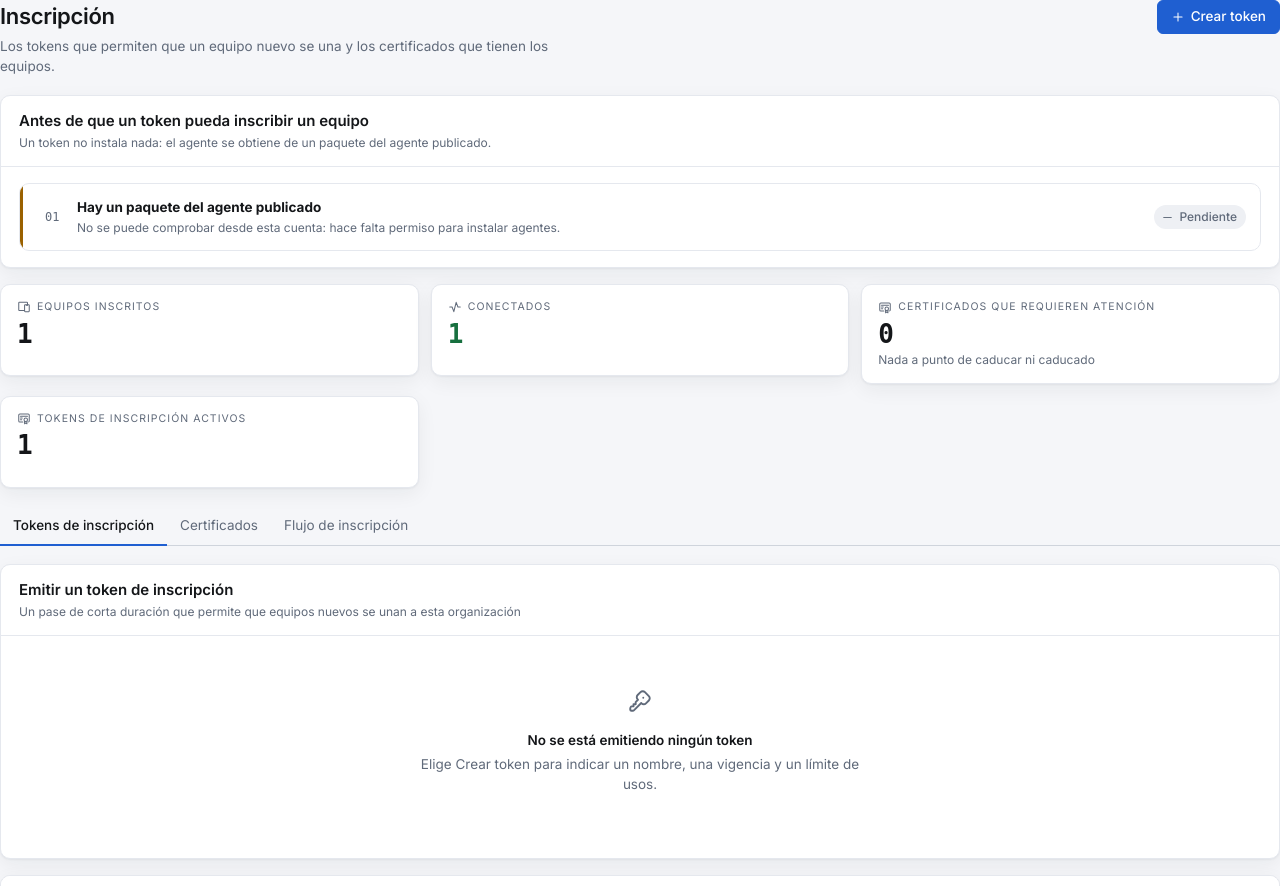
Test: the enrollment page in Spanish › words the one-time reveal, the copy states and the dismiss confirmation
Click the button "Crear token": click(1218, 17) [1157, 0, 1279, 34]
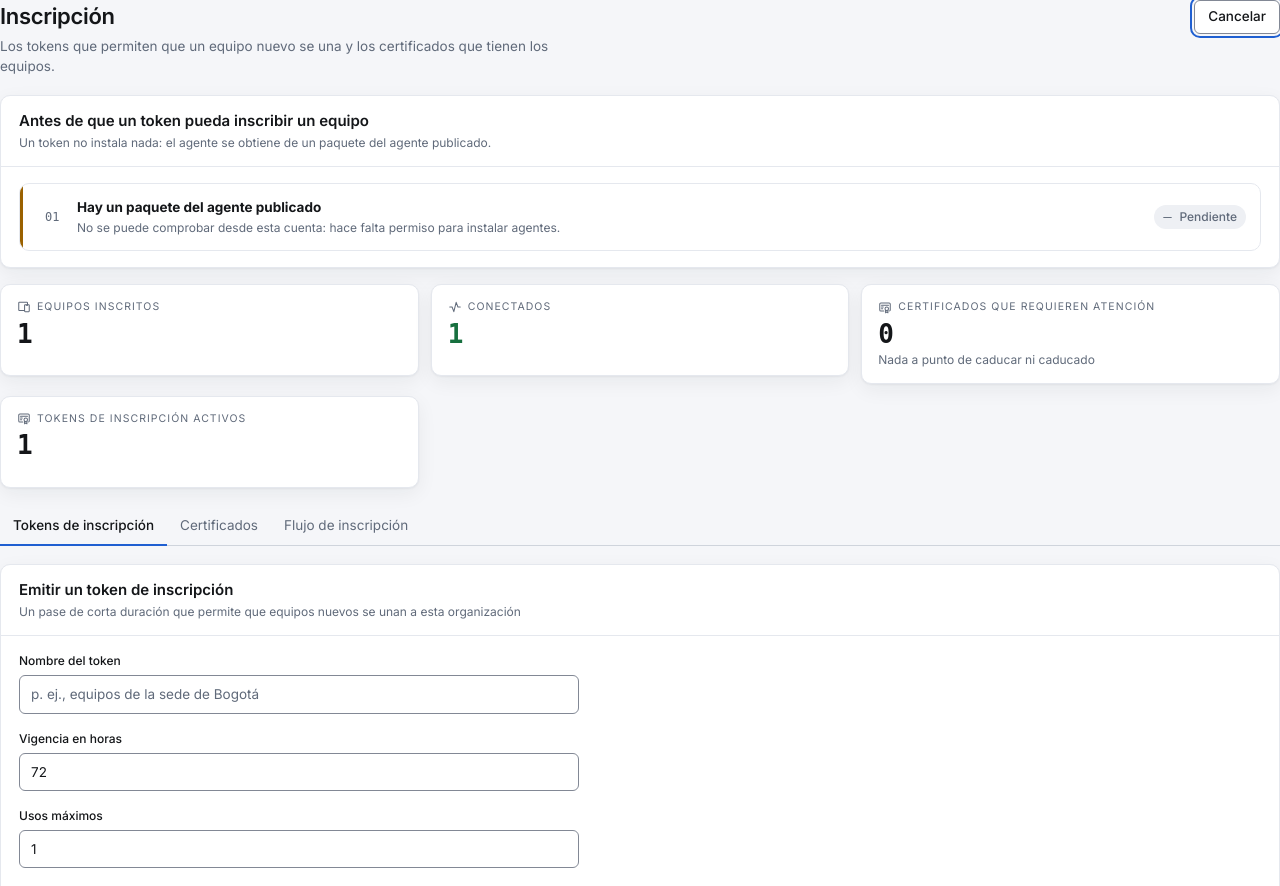
In the field labelled "Nombre del token": (299, 694) [19, 675, 579, 714], type "Lote"
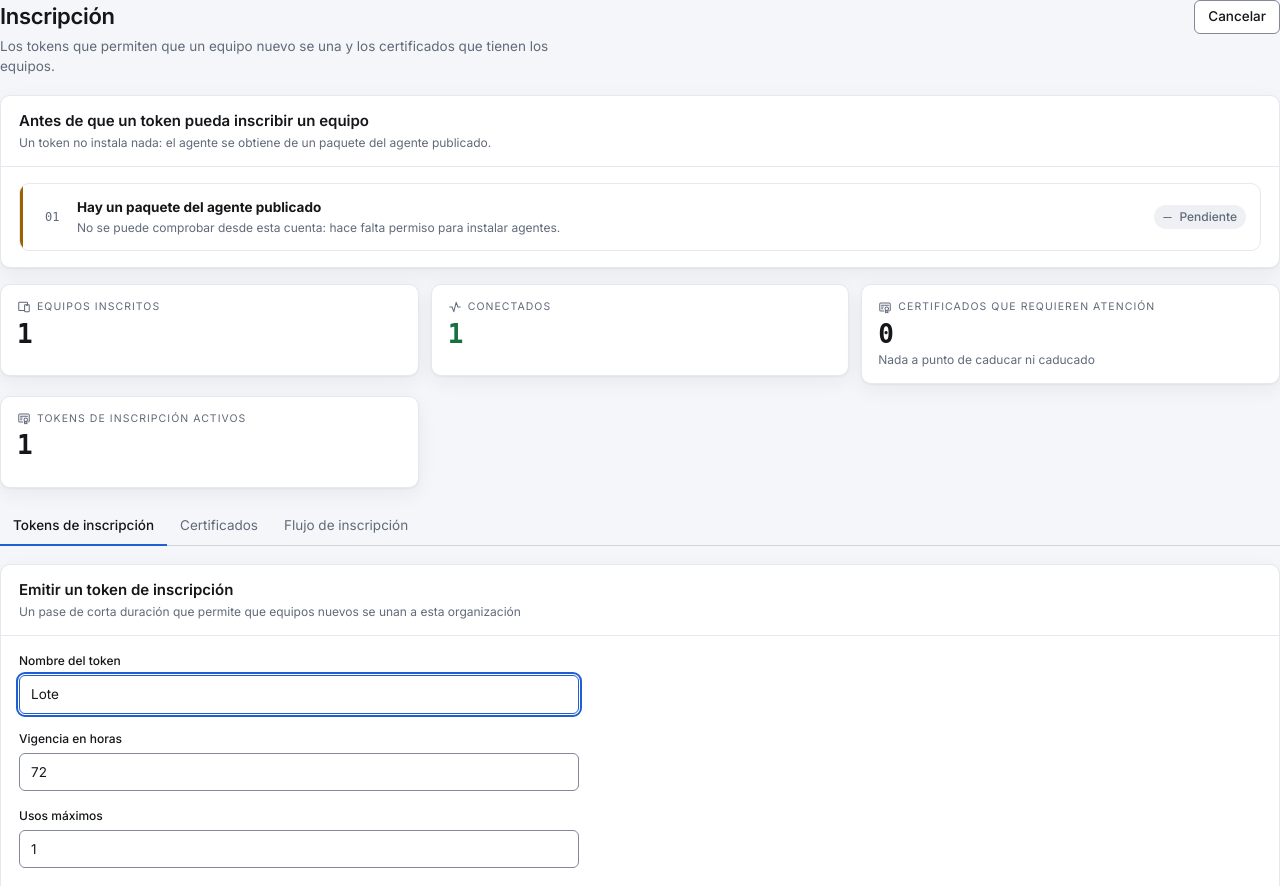
Replace the text in the number field labelled "Usos máximos" with "3": (299, 849) [19, 830, 579, 868]
(page scrolled)
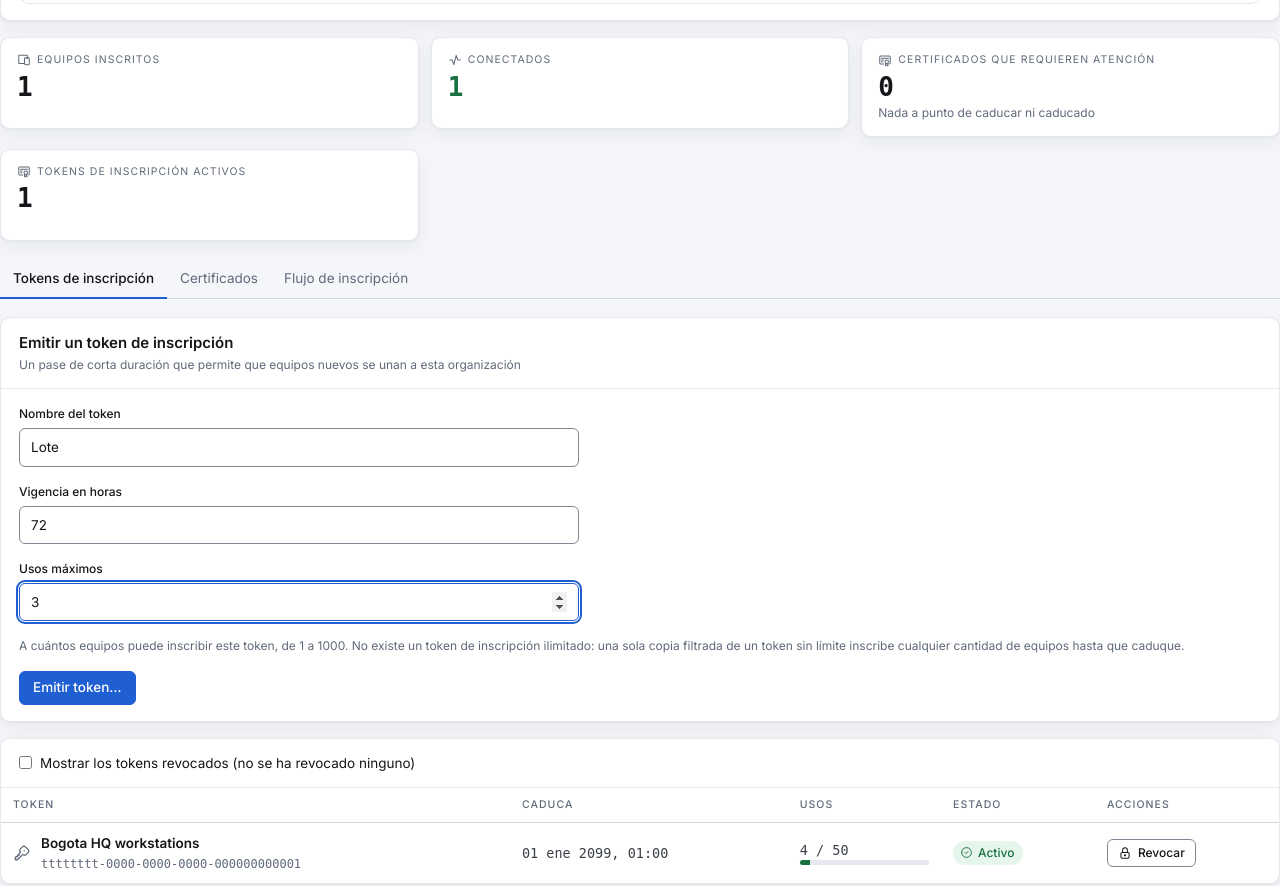
Click the button "Emitir token…": click(77, 688) [19, 671, 136, 705]
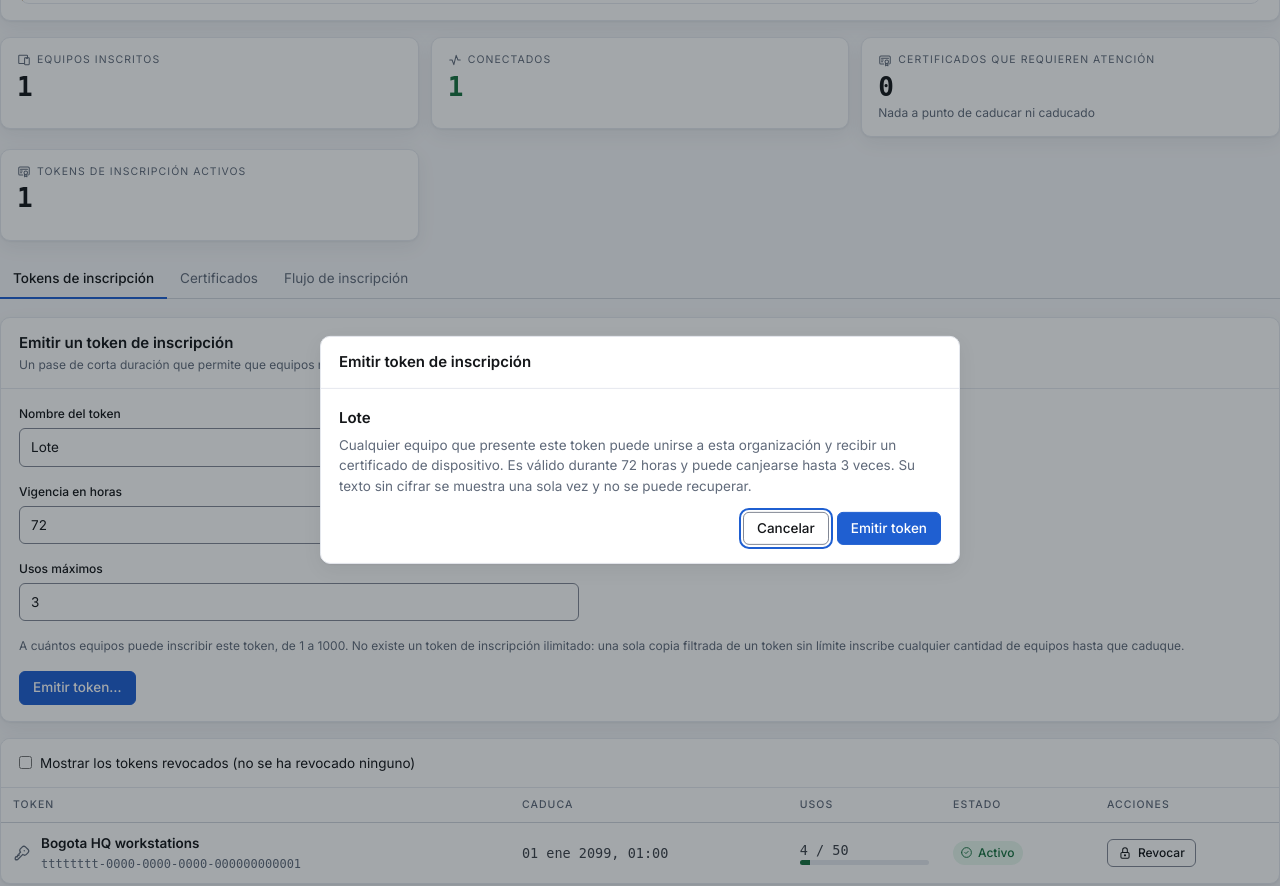
Expected: the text "puede canjearse hasta 3 veces" is shown, [339, 437, 915, 493]
Click the button "Emitir token": click(889, 528) [837, 512, 941, 545]
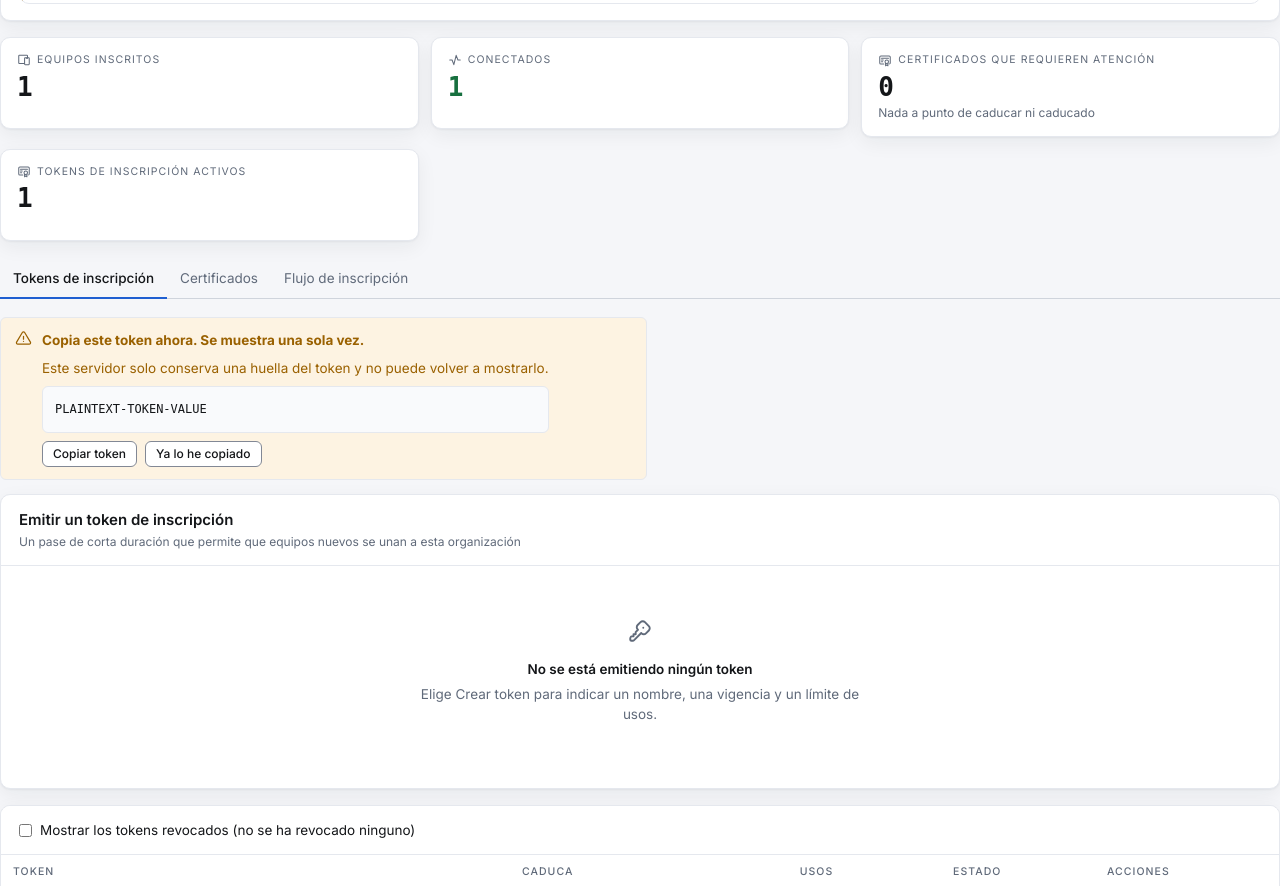
Expected: the text "Copia este token ahora. Se muestra una sola vez." is shown, [42, 330, 364, 350]
Expected: the text "Este servidor solo conserva una huella del token y no puede volver a mostrarlo." is shown, [42, 358, 548, 378]
Expected: the text "PLAINTEXT-TOKEN-VALUE" is shown, [42, 386, 548, 433]
# Dismissing without copying asks first, in Spanish.
Click the button "Ya lo he copiado": click(203, 454) [145, 441, 262, 467]
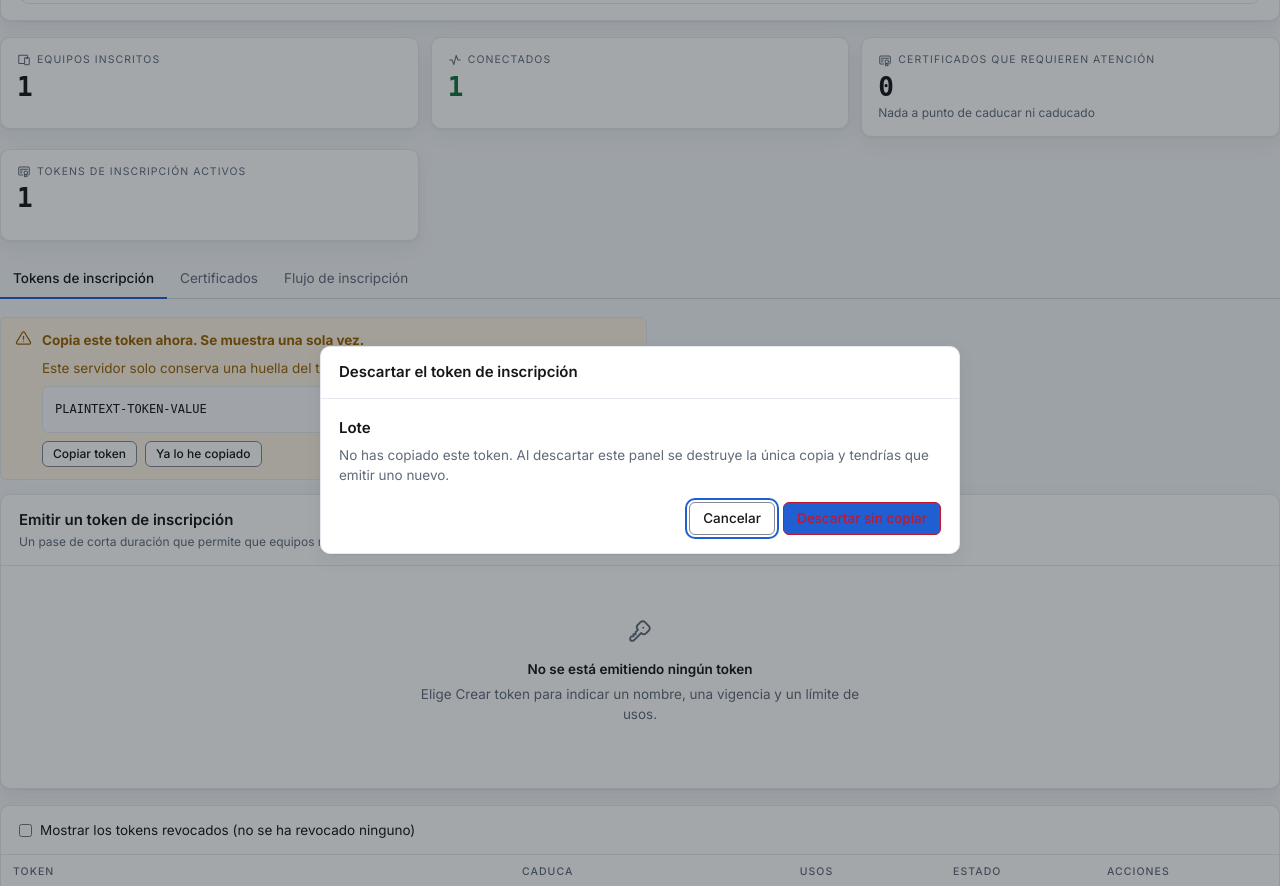
Expected: the text "No has copiado este token." is shown, [339, 447, 929, 483]
Expected: the button "Descartar sin copiar" is shown, [783, 502, 941, 535]
